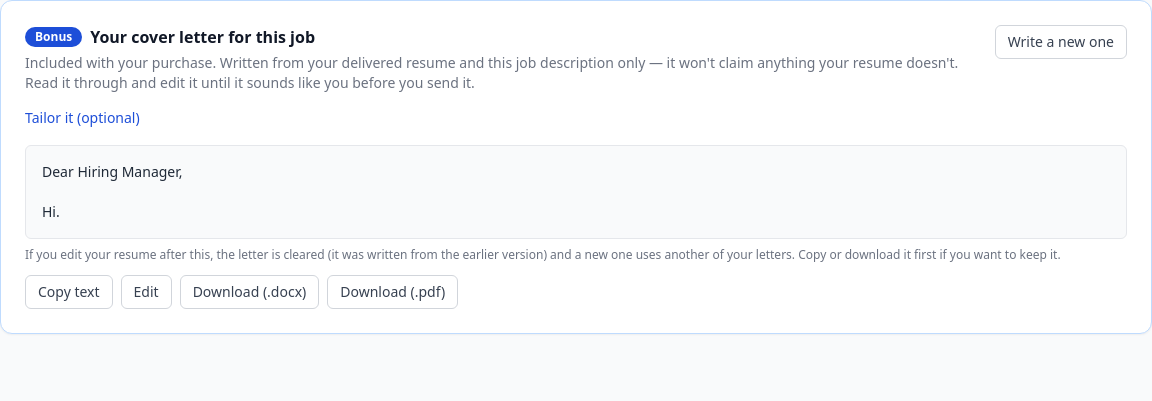
Test: CoverLetterPanel — PDF download › a failed render is reported and points at the docx
The width and height of the screenshot is (1152, 401).
What coordinates should you click on to do the following:
click the button "Download (.pdf)"
I would click on:
 (393, 292)
Its box is [327,275,458,309].
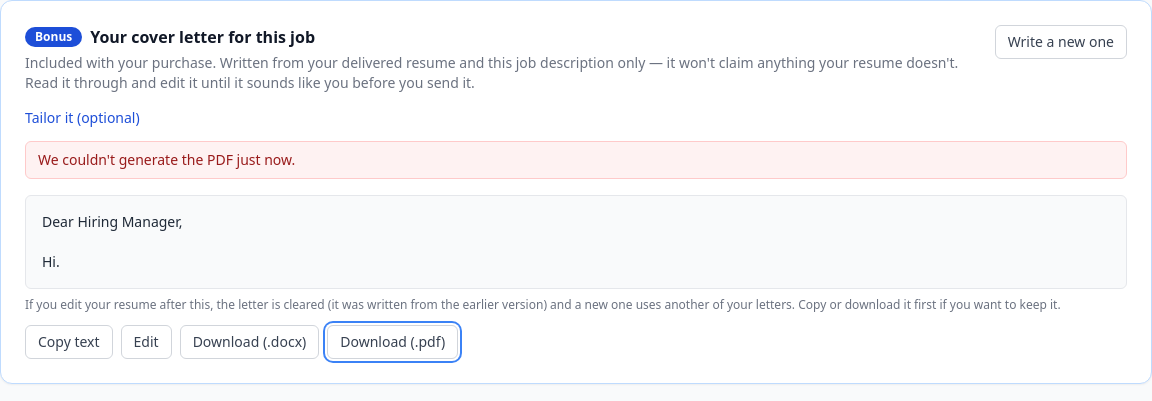
Now the text "We couldn't generate the PDF just now." is shown, box [25,141,1127,179]
